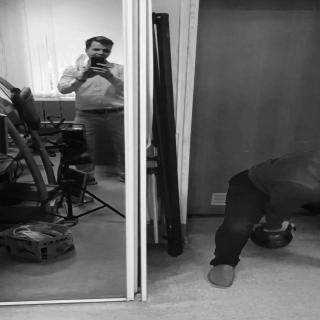kettlebell: (248, 221, 300, 252)
